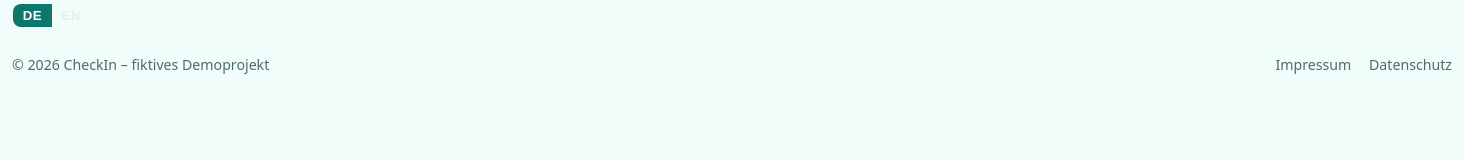
Test: Language switch › switches all texts to English on a click
The image size is (1464, 160).
Click the button with aria-label "English". click: [72, 16]
box: [52,4,91,27]
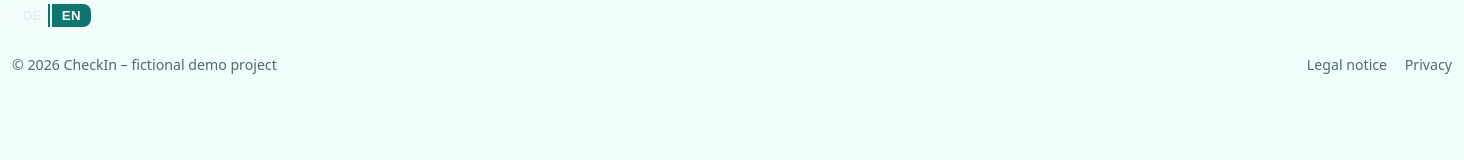
Result: the text "© 2026 CheckIn – fictional demo project" is shown at [12,54,277,75]
Result: the element named "Language" is shown at [12,4,92,28]
